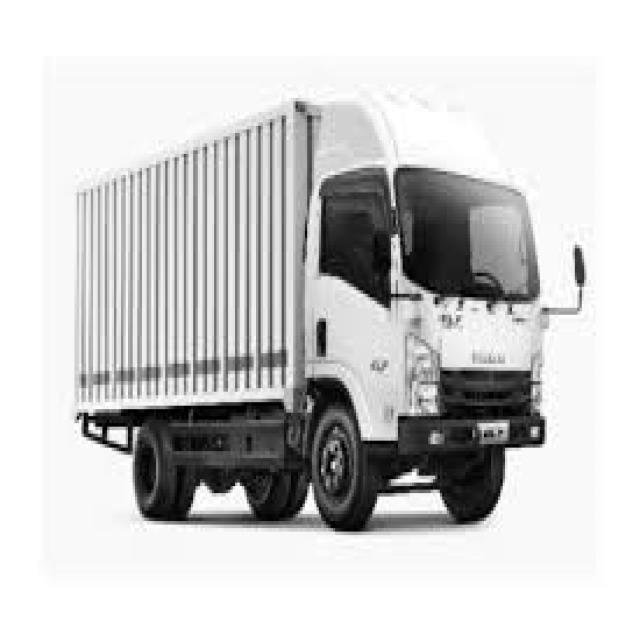truck: (288, 87, 597, 541)
